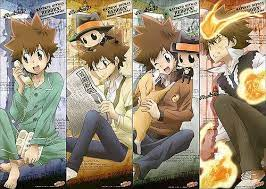Tsuna: (7, 20, 58, 77), (133, 17, 181, 75), (202, 7, 250, 63), (85, 41, 125, 78)
